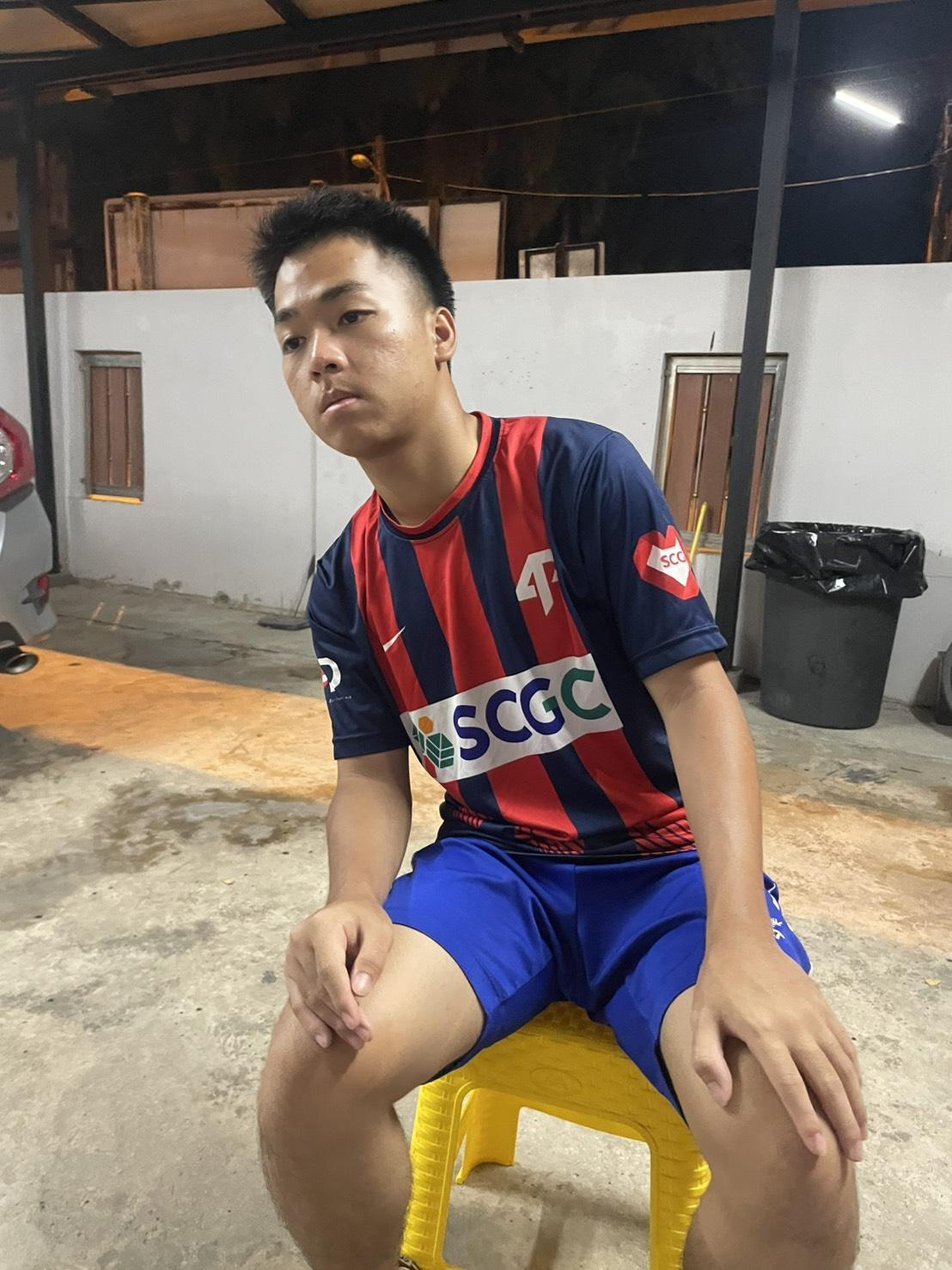BadPosture: (249, 188, 758, 893)
